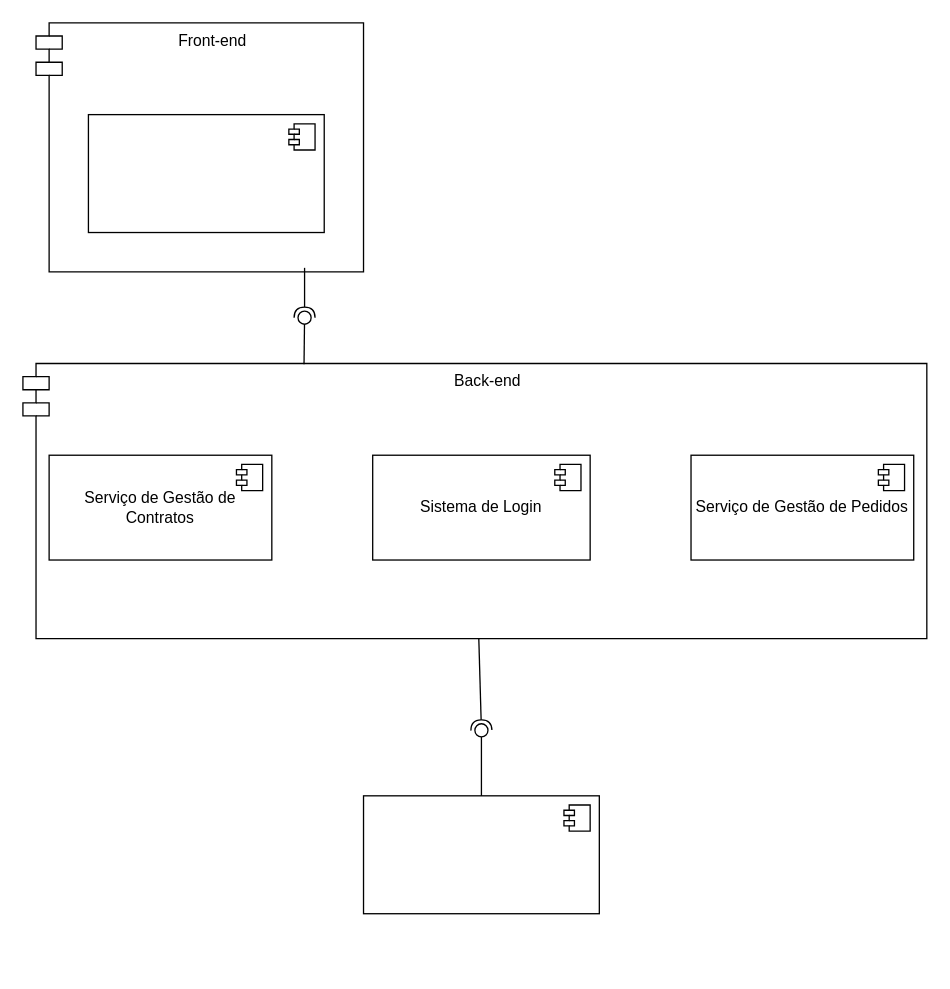
Image size: 950x989. Some labels were removed from this diagram. Each missing label, with the centre of its shape:
"Banco de Dados" belongs at point 480,854.
"User Interface" belongs at point 205,173.
